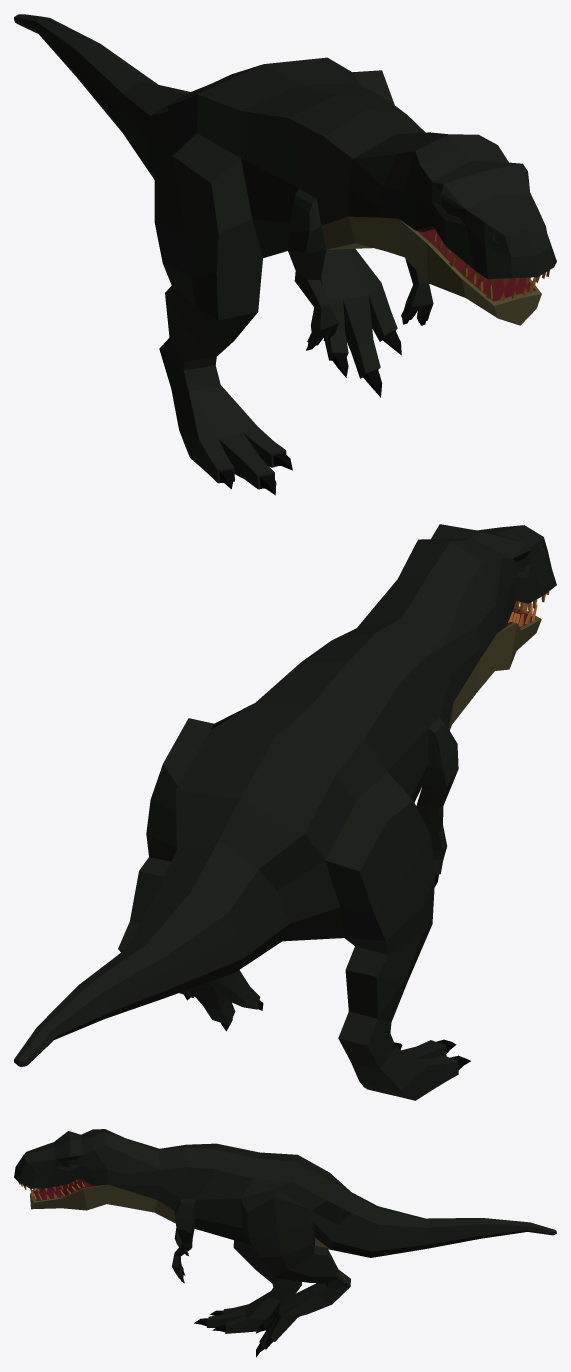
File: Trex_000023.obj
The picture shows the model from 3 angles, top to bottom: view 1: azimuth 30°, elevation 25°; view 2: azimuth 150°, elevation 25°; view 3: azimuth 270°, elevation 25°; orthographic projection. The views are drawn at different scales.
Parts seen in each view (by area): view 1: Trex_Cylinder; view 2: Trex_Cylinder; view 3: Trex_Cylinder.
Boxes of the visible parts, x1,y1,x2,y2 form: Trex_Cylinder: (14,14,556,495); Trex_Cylinder: (14,524,556,1100); Trex_Cylinder: (14,1129,556,1357).
Size of the model in its own units: 7.96 by 13.75 by 31.32.
